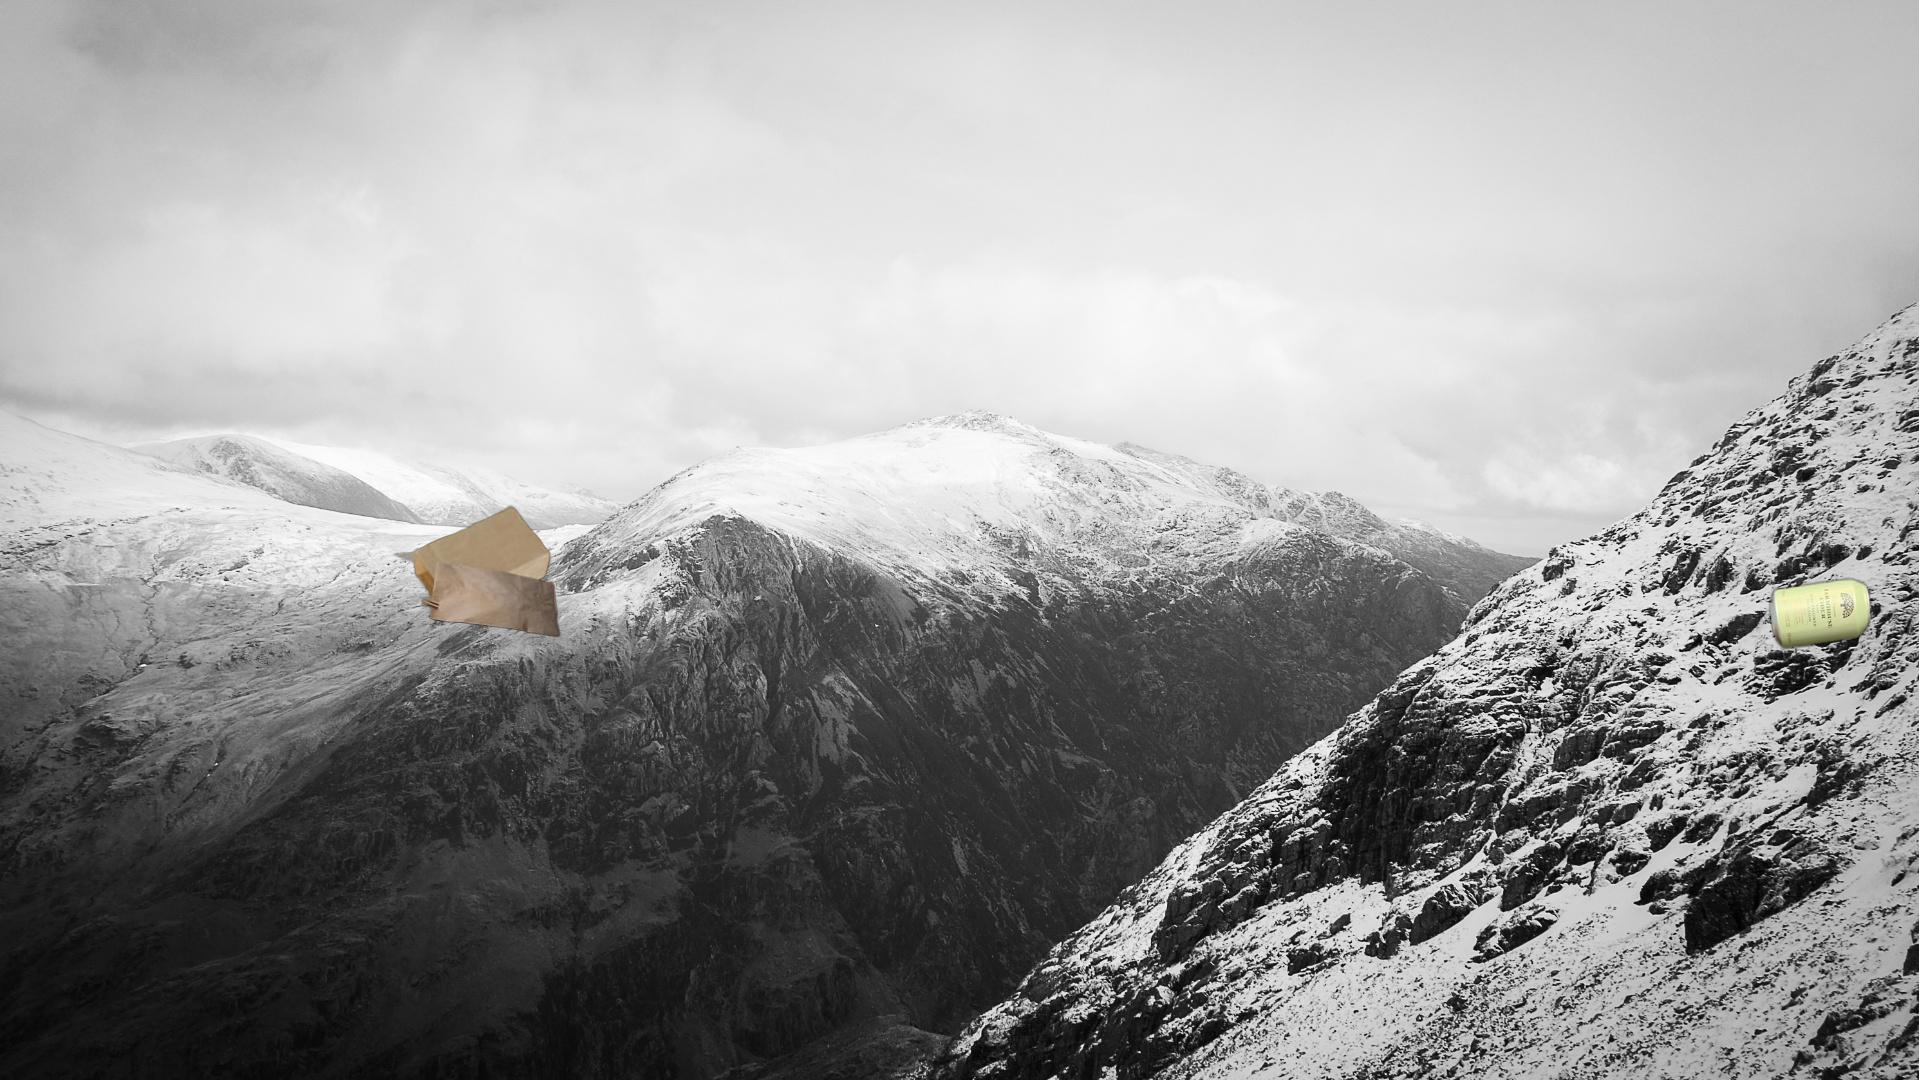metal-cans: (1563, 574, 1919, 1080)
paper-bag: (391, 502, 563, 640)
plastic-bottles: (239, 897, 539, 1080)
